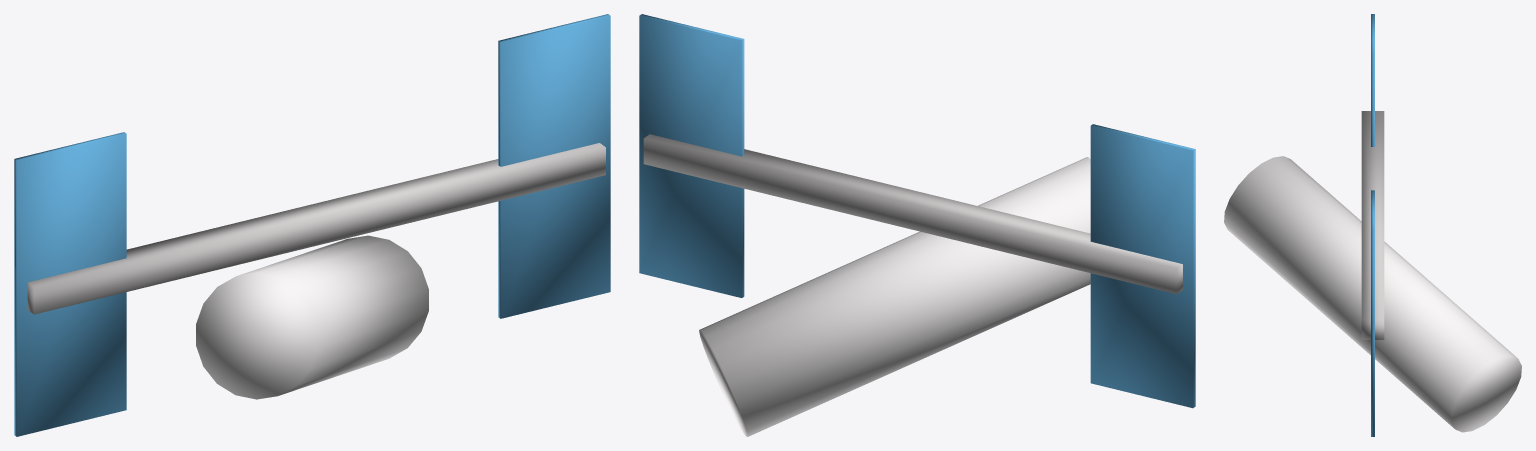
The model's file is space_station.glb.
The picture shows the model from 3 angles, left to right: view 1: azimuth 30°, elevation 25°; view 2: azimuth 150°, elevation 25°; view 3: azimuth 270°, elevation 25°; orthographic projection. The views are drawn at different scales.
Visible parts, largest first — view 1: array1_node, array2_node, core_node, truss_node; view 2: core_node, array1_node, array2_node, truss_node; view 3: core_node, truss_node, array2_node, array1_node.
Part boxes in pixels (x1,y1,x2,y2): array1_node: (14, 132, 126, 436); array2_node: (498, 14, 610, 318); core_node: (196, 235, 428, 399); truss_node: (27, 143, 605, 314); core_node: (699, 157, 1090, 436); array1_node: (1090, 124, 1195, 408); array2_node: (639, 14, 744, 297); truss_node: (643, 134, 1182, 294); core_node: (1224, 156, 1521, 432); truss_node: (1361, 111, 1384, 339); array2_node: (1371, 190, 1374, 436); array1_node: (1371, 14, 1374, 146).
Bounding box in the file's own units: 2.7 × 1.54 × 1.57.
